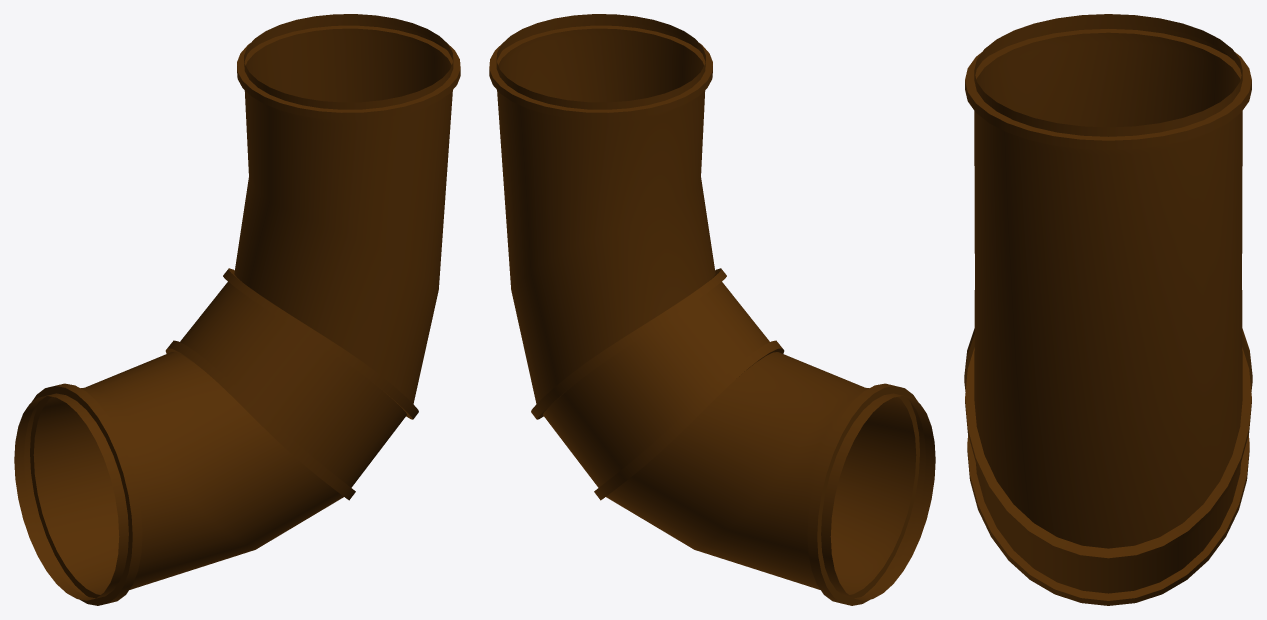
The model's file is Pipe.joint.fbx.
The picture shows the model from 3 angles, left to right: view 1: azimuth 30°, elevation 25°; view 2: azimuth 150°, elevation 25°; view 3: azimuth 270°, elevation 25°; orthographic projection. The views are drawn at different scales.
Parts seen in each view (by area): view 1: Pipe.Joint; view 2: Pipe.Joint; view 3: Pipe.Joint.
Boxes of the visible parts, left/top/right/bottom form: Pipe.Joint: left=14, top=14, right=460, bottom=605; Pipe.Joint: left=489, top=14, right=935, bottom=605; Pipe.Joint: left=964, top=14, right=1252, bottom=605.
Bounding box in the file's own units: 57.18 × 68.21 × 29.41.
